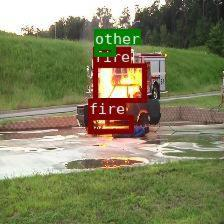fire: (93, 62, 145, 101), (88, 114, 132, 132)
